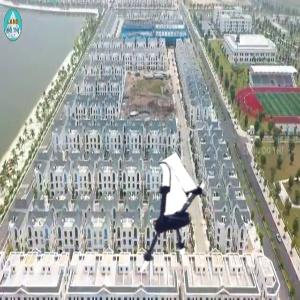drone: (113, 169, 221, 277)
